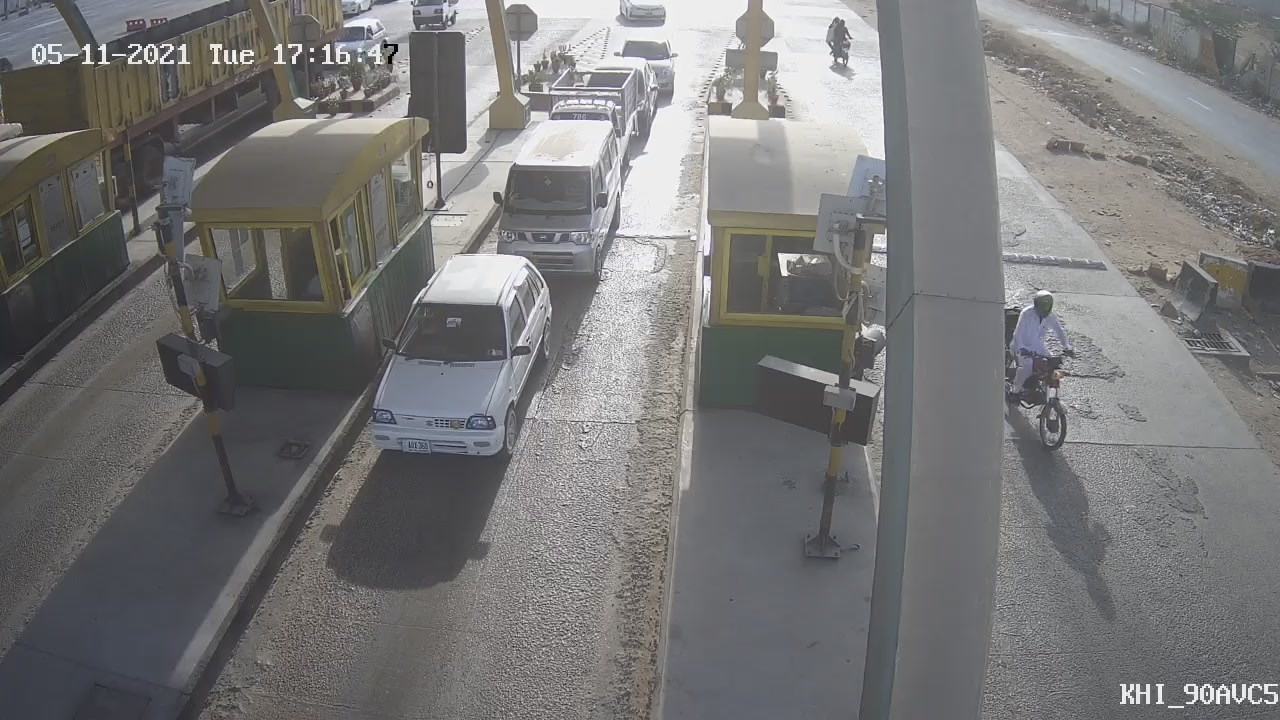F1: (350, 238, 576, 485), (469, 107, 635, 300)
